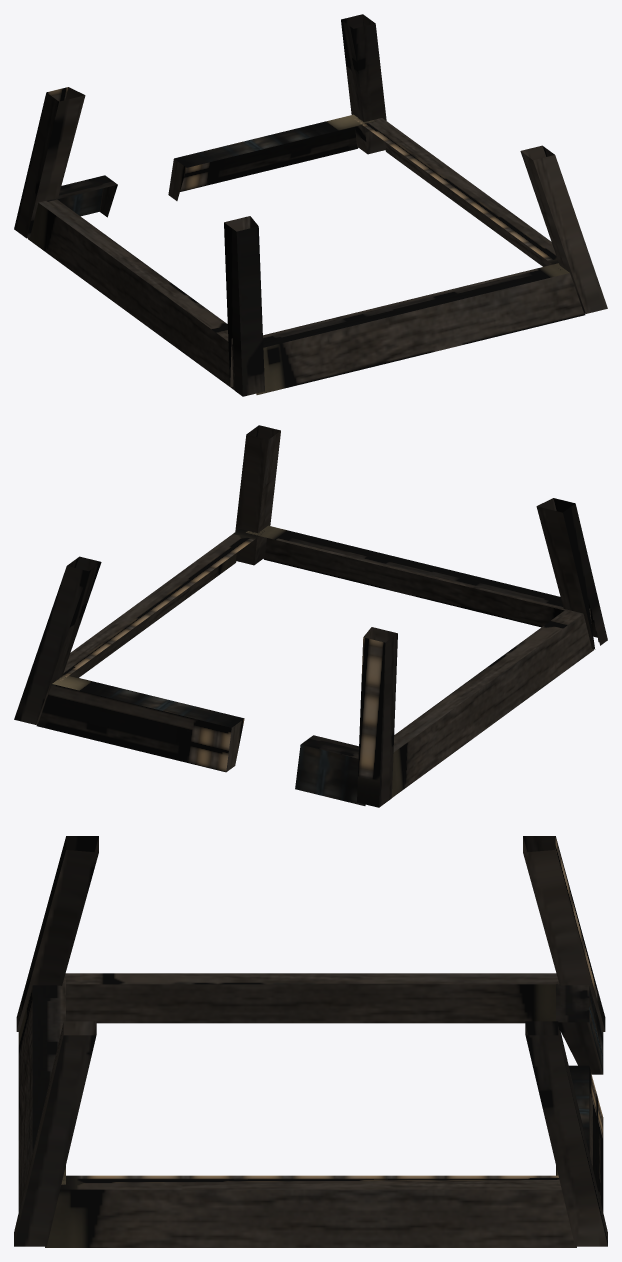
File: MS_Windmill1.fbx
The picture shows the model from 3 angles, top to bottom: view 1: azimuth 30°, elevation 25°; view 2: azimuth 150°, elevation 25°; view 3: azimuth 270°, elevation 25°; orthographic projection. The views are drawn at different scales.
Visible parts, largest first — view 1: Cube.010; view 2: Cube.010; view 3: Cube.010.
Boxes of the visible parts, x1,y1,x2,y2 form: Cube.010: [14, 14, 607, 396]; Cube.010: [14, 425, 607, 807]; Cube.010: [14, 836, 607, 1247].
Bounding box in the file's own units: 760 × 300 × 835.
Materials: 1 (1 with a texture image).
